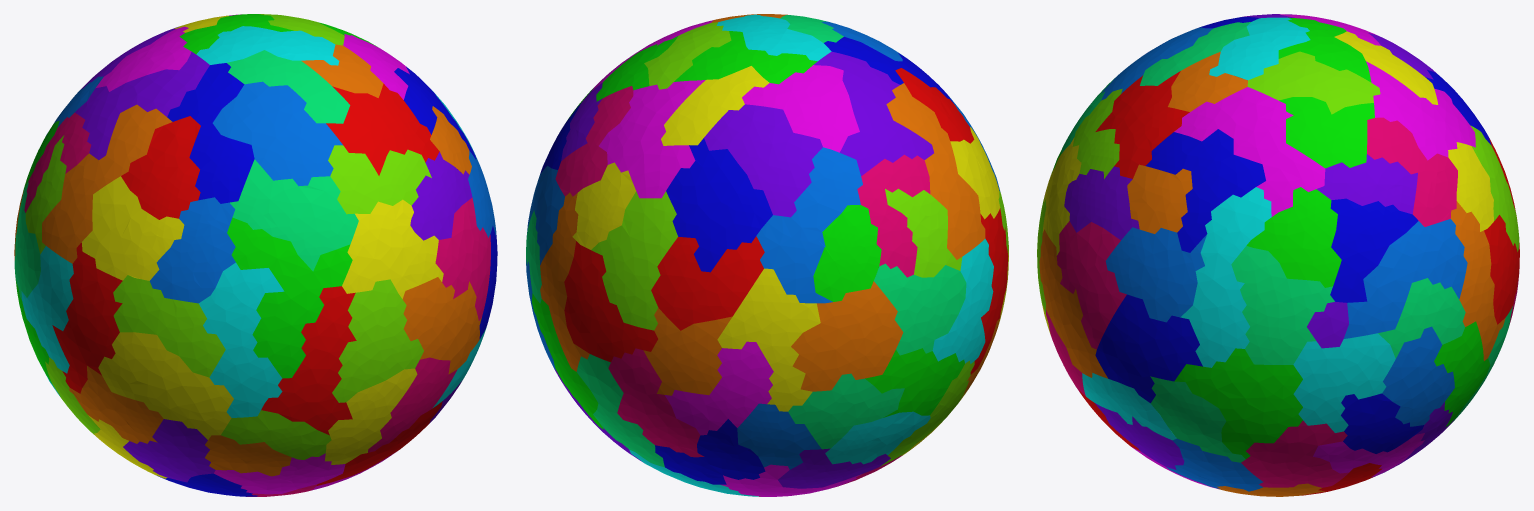
Rendered from SphereH_nanite_LOD1.fbx.
The picture shows the model from 3 angles, left to right: view 1: azimuth 30°, elevation 25°; view 2: azimuth 150°, elevation 25°; view 3: azimuth 270°, elevation 25°; orthographic projection.
Size of the model in its own units: 2 by 2 by 2.
